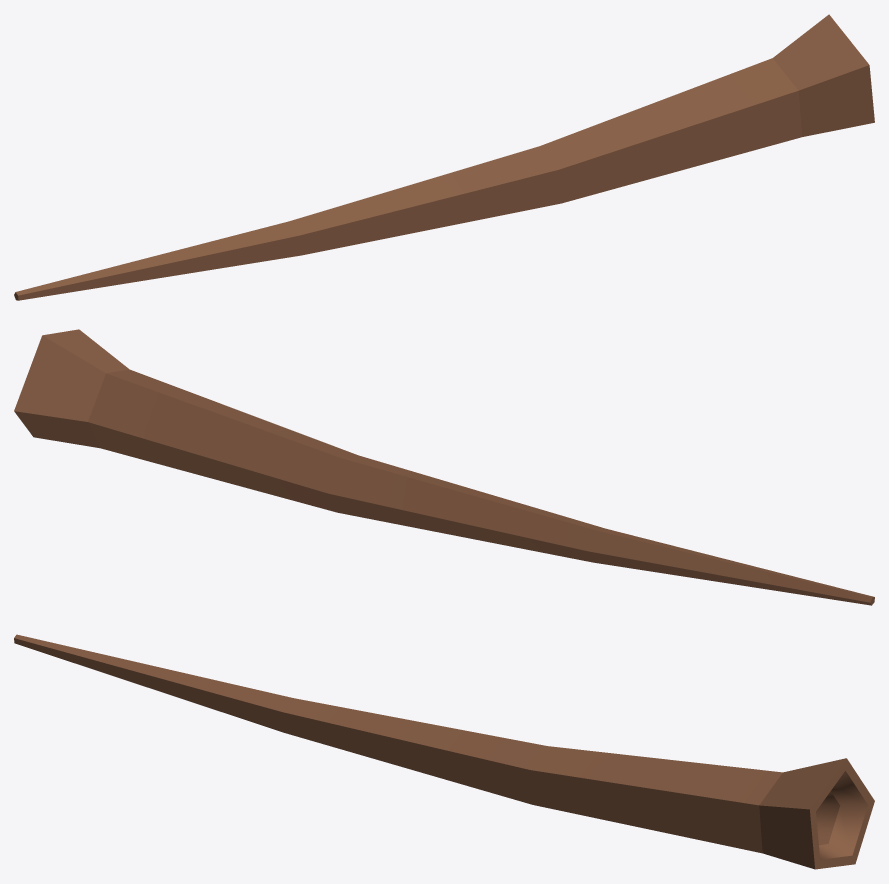
File: tree_bark_fall_1.fbx
The picture shows the model from 3 angles, top to bottom: view 1: azimuth 30°, elevation 25°; view 2: azimuth 150°, elevation 25°; view 3: azimuth 330°, elevation 25°; orthographic projection.
Visible parts, largest first — view 1: tree_pine; view 2: tree_pine; view 3: tree_pine.
Part boxes in pixels (x1,y1,x2,y2): tree_pine: (14, 14, 874, 300); tree_pine: (14, 329, 874, 605); tree_pine: (14, 634, 874, 869).
Size of the model in its own units: 572 by 73.16 by 74.75.
